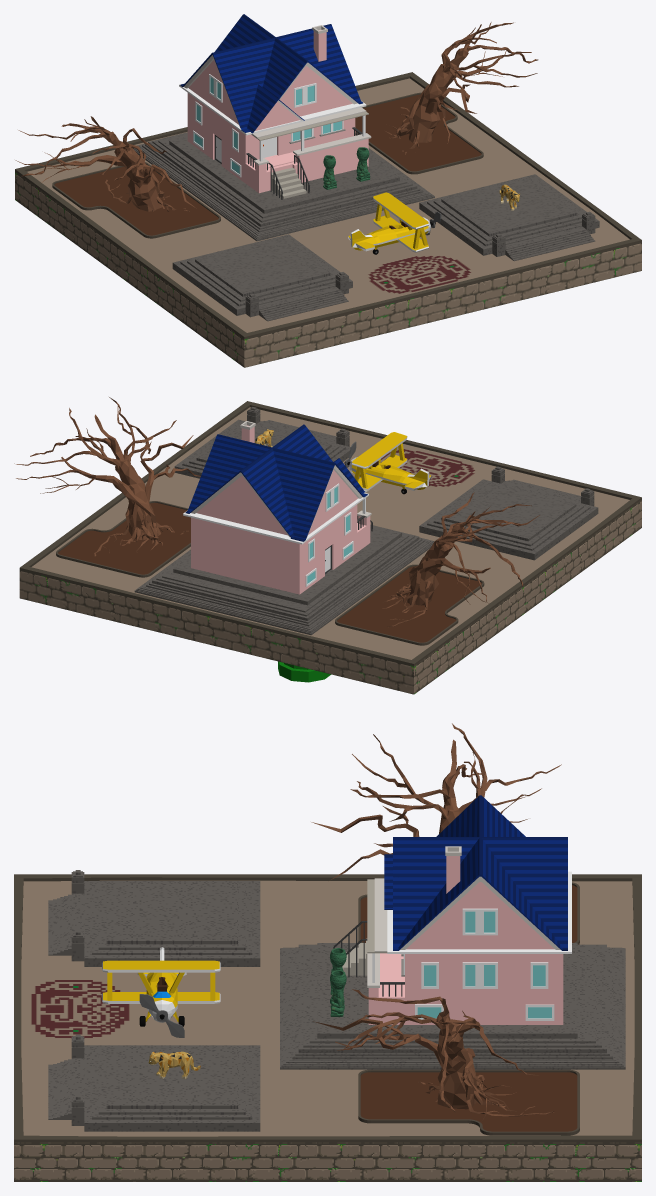
3 renders of one model, top to bottom at view 1: azimuth 30°, elevation 25°; view 2: azimuth 150°, elevation 25°; view 3: azimuth 270°, elevation 25°, orthographic. The views are drawn at different scales.
Visible parts, largest first — view 1: Cube.011, Cube.313, VEHICLES_AIRPLANE; view 2: Cube.011, Cube.313, VEHICLES_AIRPLANE, UNDERGROUND_PIPES; view 3: Cube.011, Cube.313, VEHICLES_AIRPLANE, ANIMAL_JAGUAR.
Boxes of the visible parts, x1,y1,x2,y2 form: Cube.011: (15,22,641,367); Cube.313: (179,14,371,199); VEHICLES_AIRPLANE: (348,192,441,254); Cube.011: (14,397,641,694); Cube.313: (183,421,372,594); VEHICLES_AIRPLANE: (344,432,431,494); UNDERGROUND_PIPES: (278,661,331,682); Cube.011: (14,723,641,1181); Cube.313: (333,795,571,1024); VEHICLES_AIRPLANE: (102,947,220,1037); ANIMAL_JAGUAR: (148,1051,200,1079).
Bounding box in the file's own units: 5099 × 2243 × 4000.
Materials: 36 (5 with a texture image).
